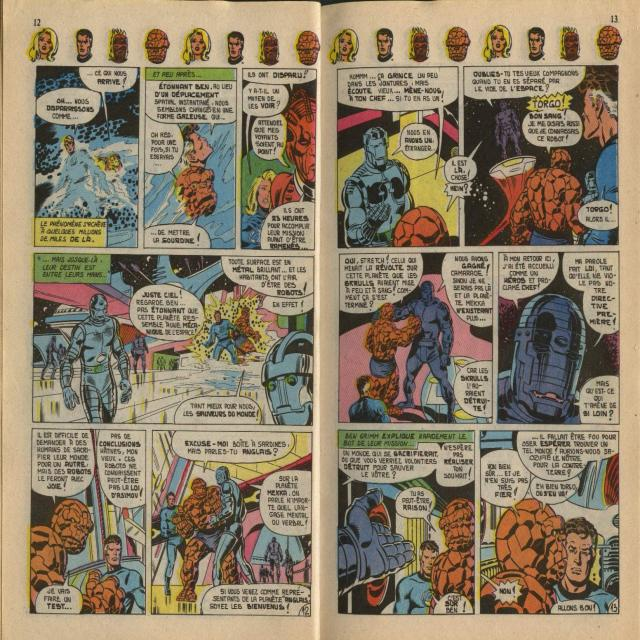comic_panel: (31, 250, 316, 428), (150, 428, 315, 617), (462, 63, 620, 247), (337, 250, 495, 425), (478, 429, 621, 616), (337, 429, 476, 617), (335, 64, 461, 249), (27, 427, 148, 616), (496, 250, 621, 426), (34, 65, 140, 250), (144, 65, 238, 251), (239, 66, 318, 252)
